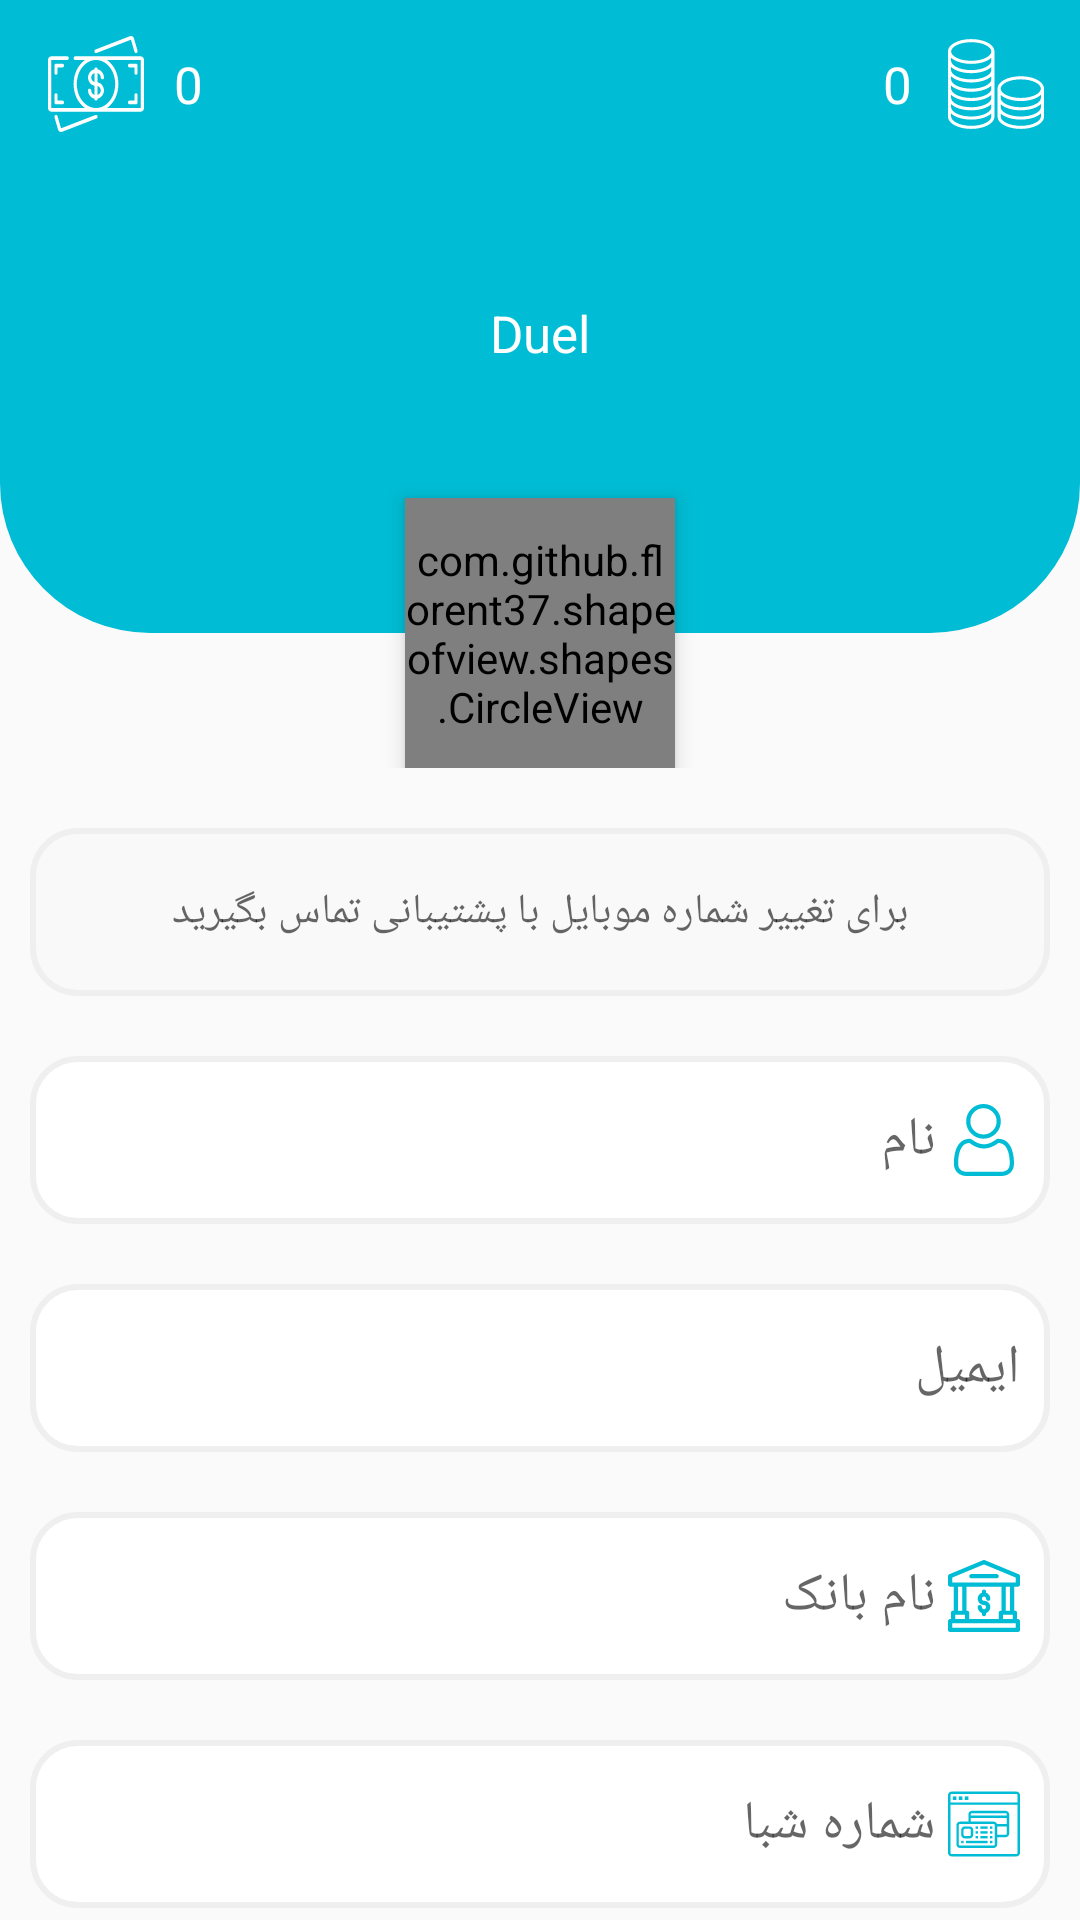

Where icons sit on this 1080*1920 app screen, as (x1, y1, x2, y2):
cash: (48, 36, 144, 132)
coins: (948, 39, 1044, 129)
